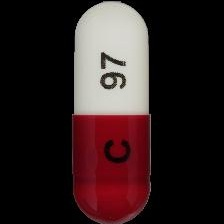16590-043: (0, 0, 224, 224)
